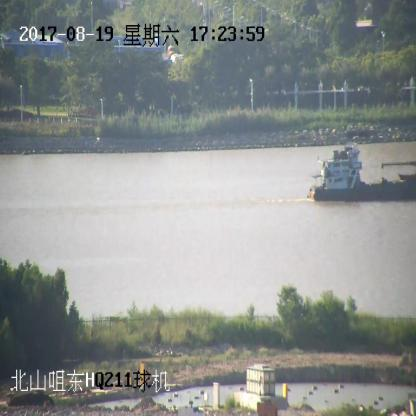Bulk Carrier: (311, 147, 415, 201)
